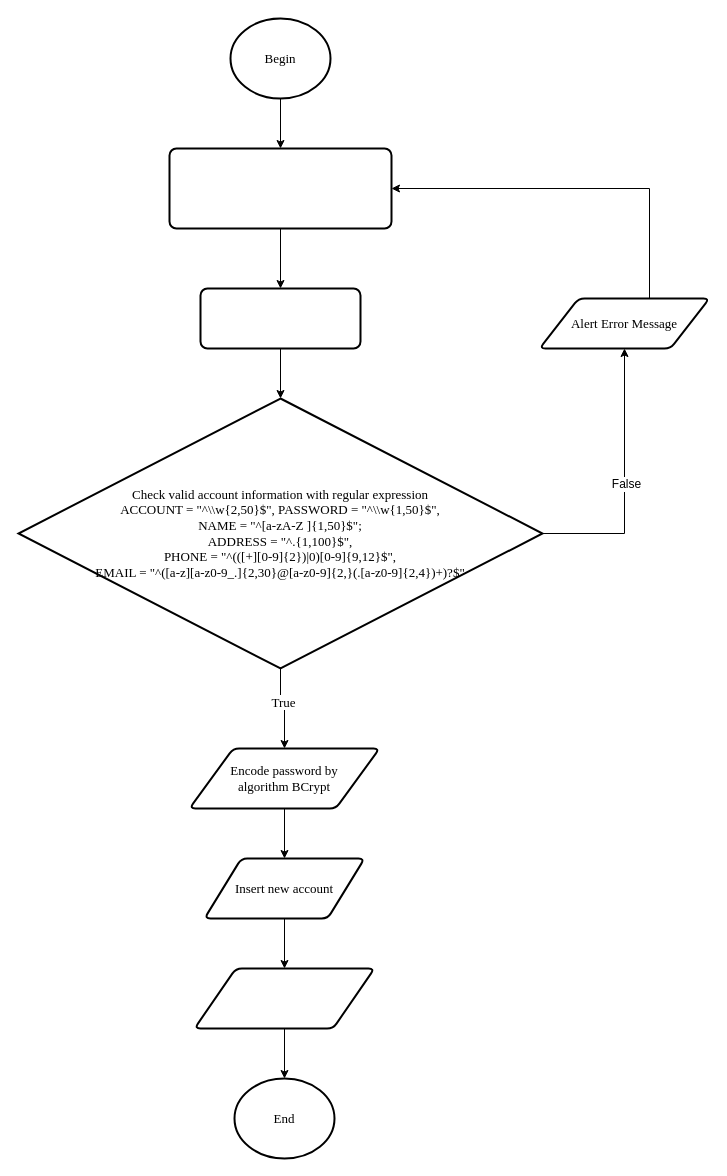
Some shapes in this 727 by 1176 pixel diagram are drawn without their labels. The centre of each missing label's shape, as x and y in pixels:
Click submit button: point (280, 318)
Enter Account Information (Name, Gender , Address, Password, Phone, Emaill): point (280, 188)
Notify of successful account registration: point (284, 998)
